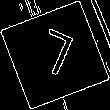L_SW: (30, 25, 80, 85)
